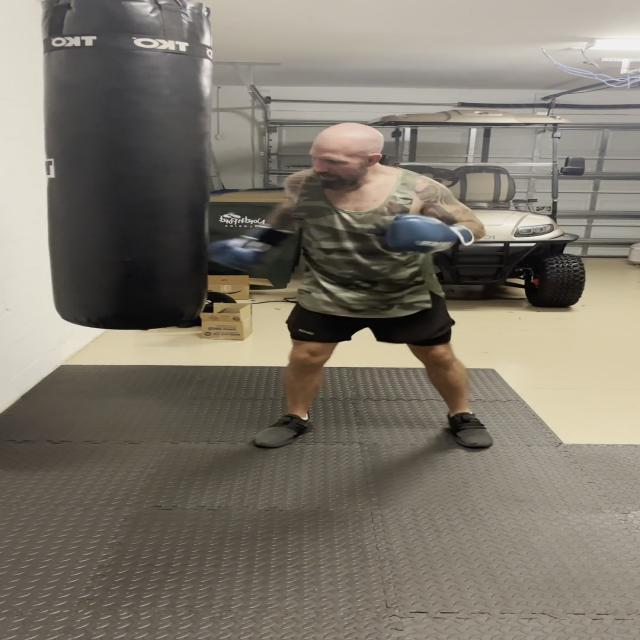bag: (27, 6, 225, 332)
hook: (181, 108, 483, 276)
